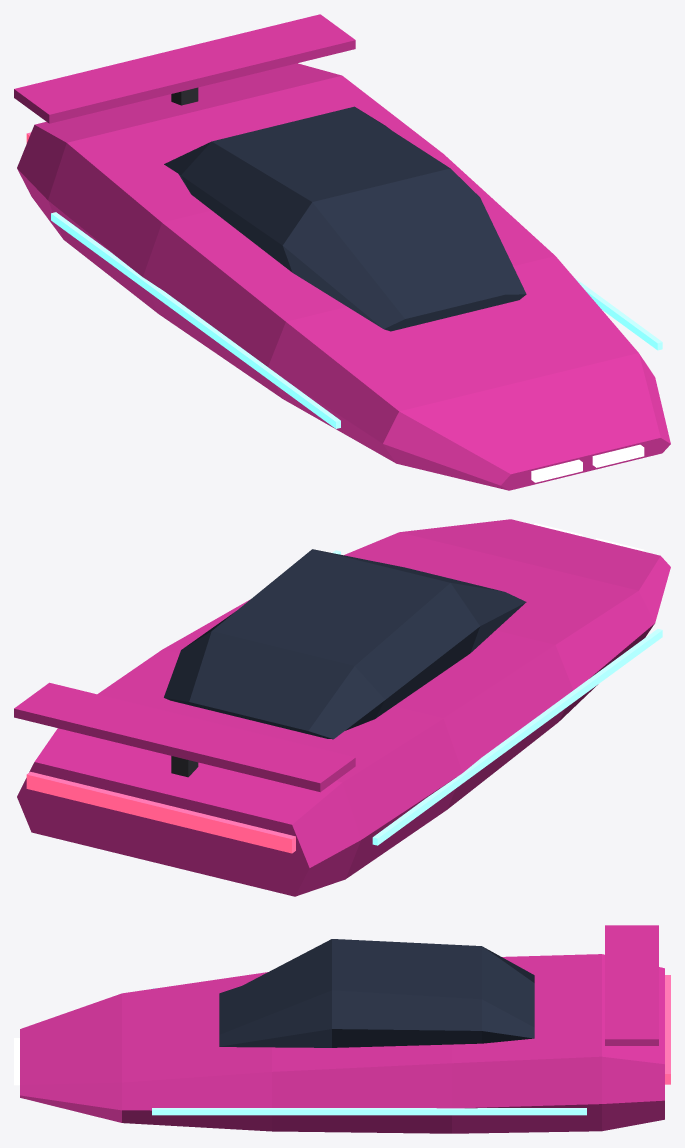
File: car.glb
3 renders of one model, top to bottom at view 1: azimuth 30°, elevation 25°; view 2: azimuth 150°, elevation 25°; view 3: azimuth 270°, elevation 25°, orthographic. The views are drawn at different scales.
Visible parts, largest first — view 1: body; view 2: body; view 3: body.
Boxes of the visible parts, x1=… form: body: x1=14, y1=14, x2=670, y2=490; body: x1=14, y1=519, x2=670, y2=896; body: x1=14, y1=925, x2=670, y2=1133.
Size of the model in its own units: 1.92 by 0.85 by 4.38.
